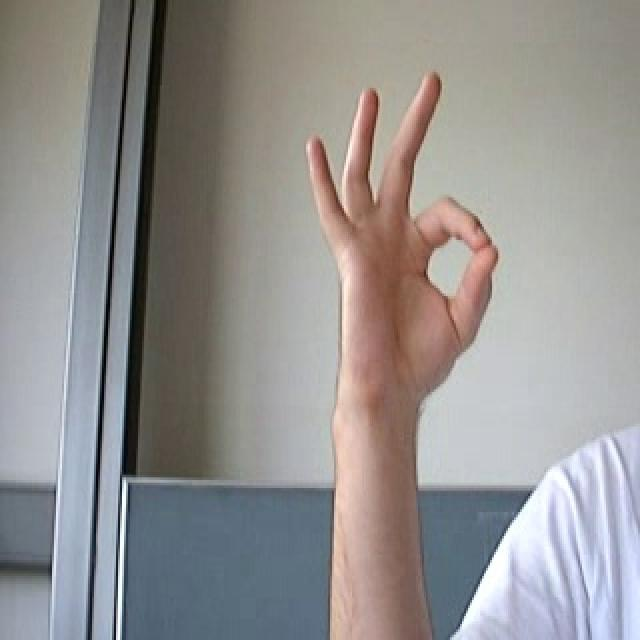F: (302, 61, 519, 429)
